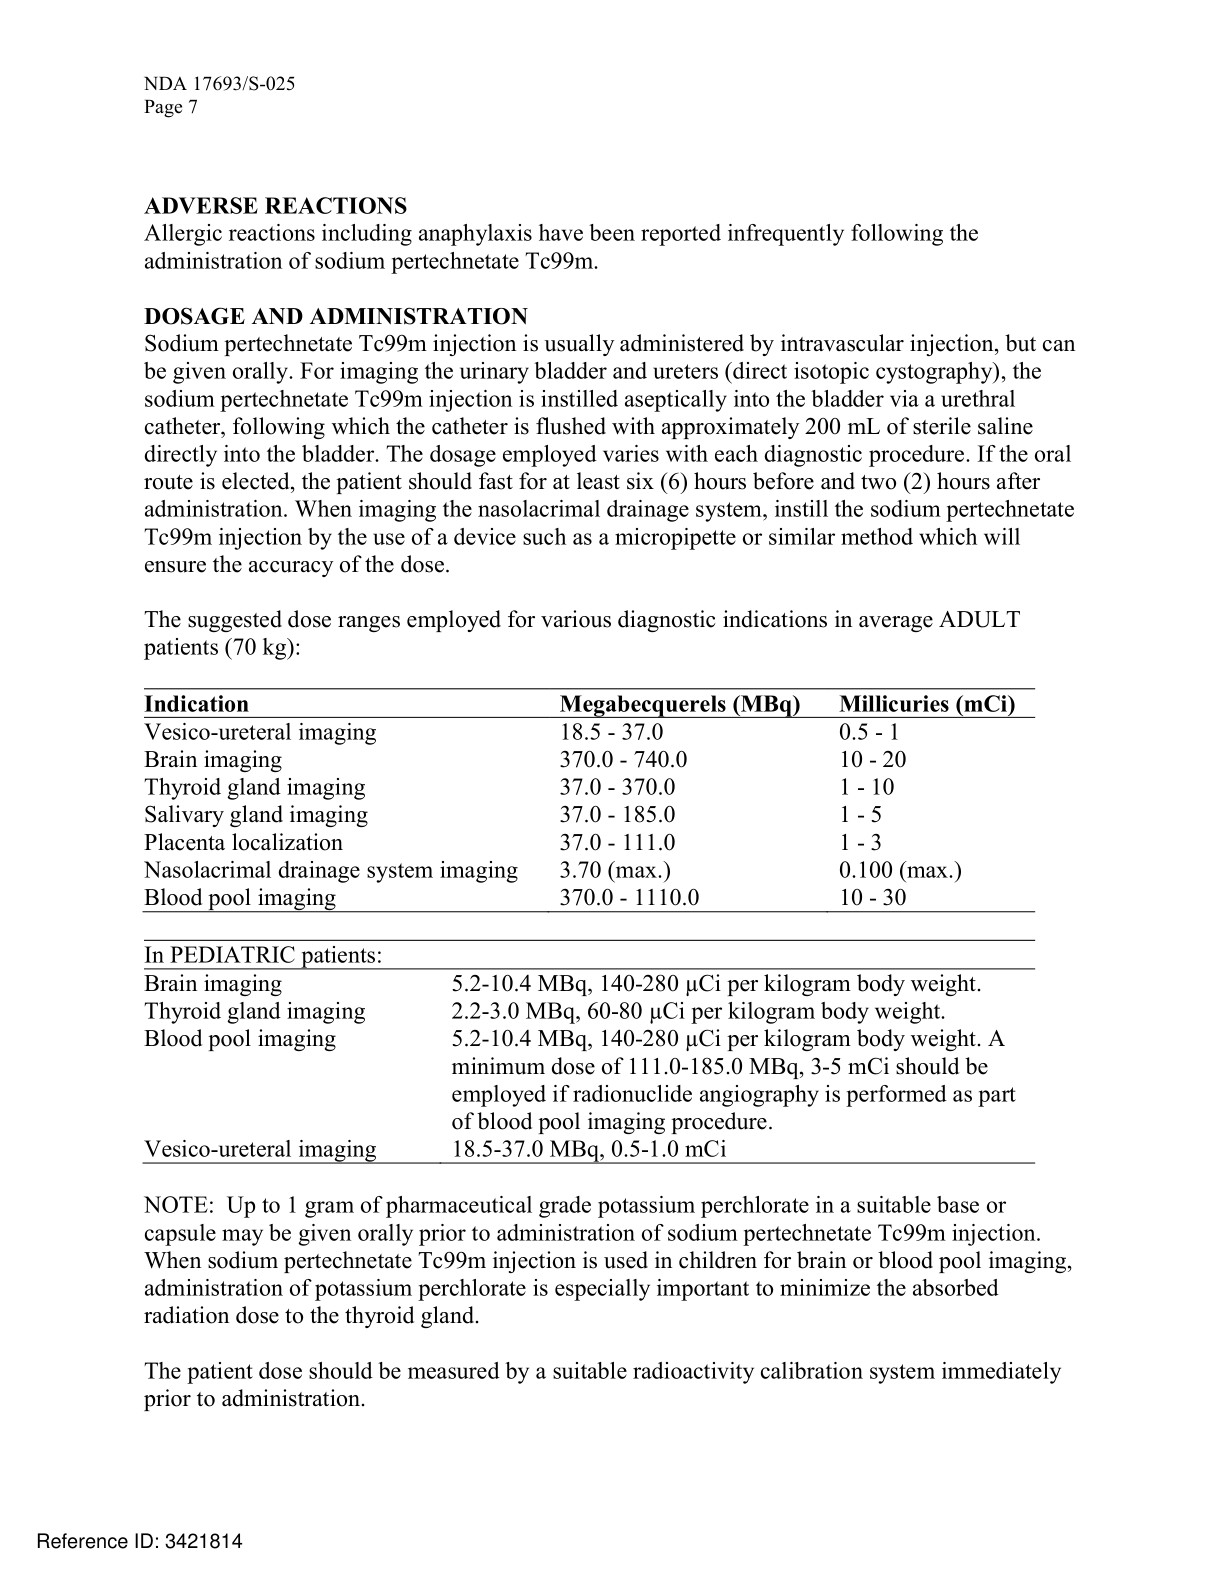partial_lined: (141, 939, 1038, 1166), (143, 687, 1038, 913)
